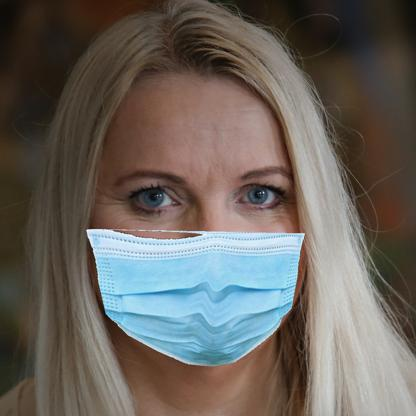mask: (82, 224, 303, 369)
